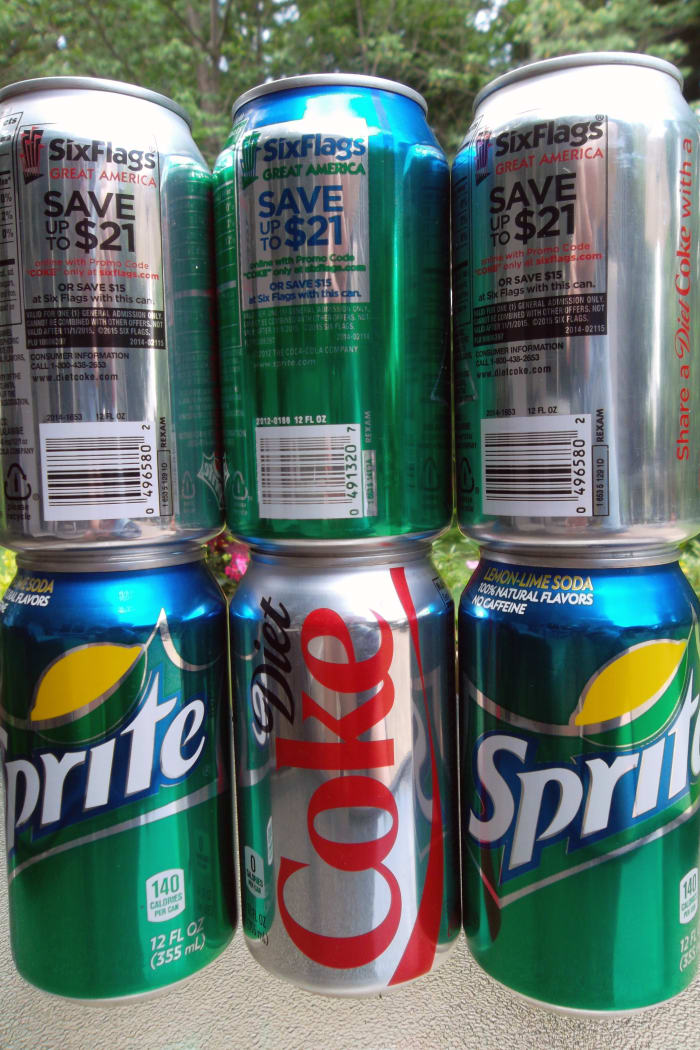Can: (448, 65, 691, 569), (454, 525, 700, 1022), (204, 69, 457, 544), (222, 538, 455, 987), (12, 76, 221, 551), (6, 552, 234, 982)
